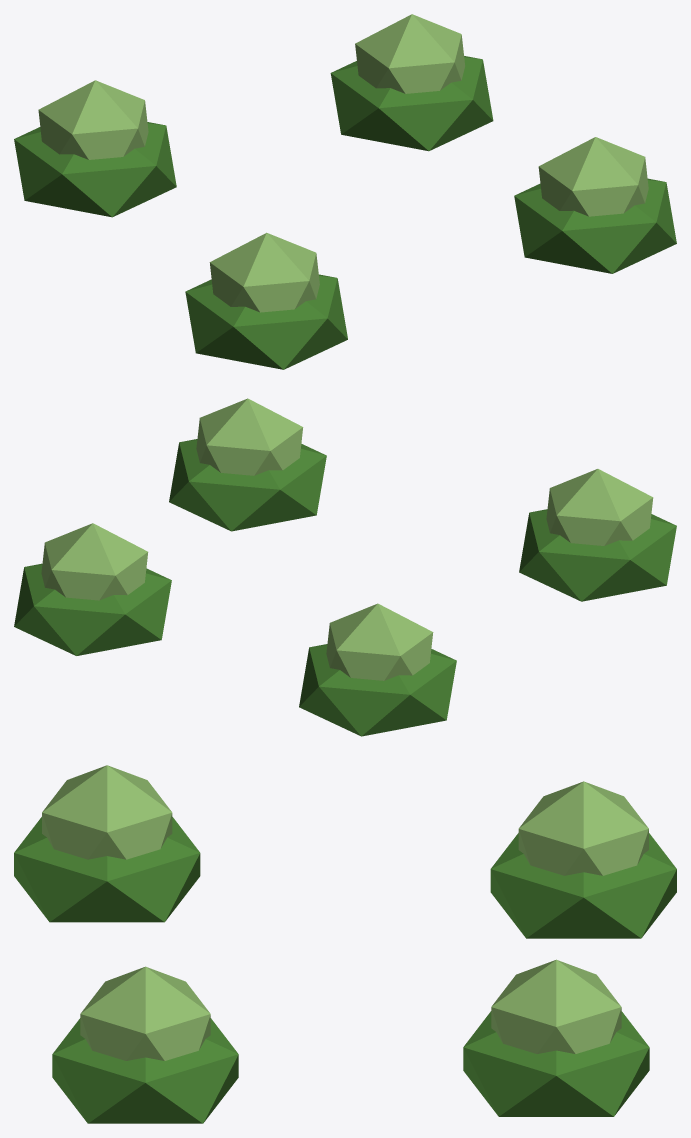
File: crop_cabbage_mature.glb
The picture shows the model from 3 angles, top to bottom: view 1: azimuth 30°, elevation 25°; view 2: azimuth 150°, elevation 25°; view 3: azimuth 270°, elevation 25°; orthographic projection. The views are drawn at different scales.
Parts seen in each view (by area): view 1: crop_cabbage_mature; view 2: crop_cabbage_mature; view 3: crop_cabbage_mature.
Boxes of the visible parts, x1=… form: crop_cabbage_mature: x1=14, y1=14, x2=676, y2=369; crop_cabbage_mature: x1=14, y1=398, x2=676, y2=736; crop_cabbage_mature: x1=14, y1=765, x2=676, y2=1123.
Size of the model in its own units: 1.23 by 0.31 by 1.21.
